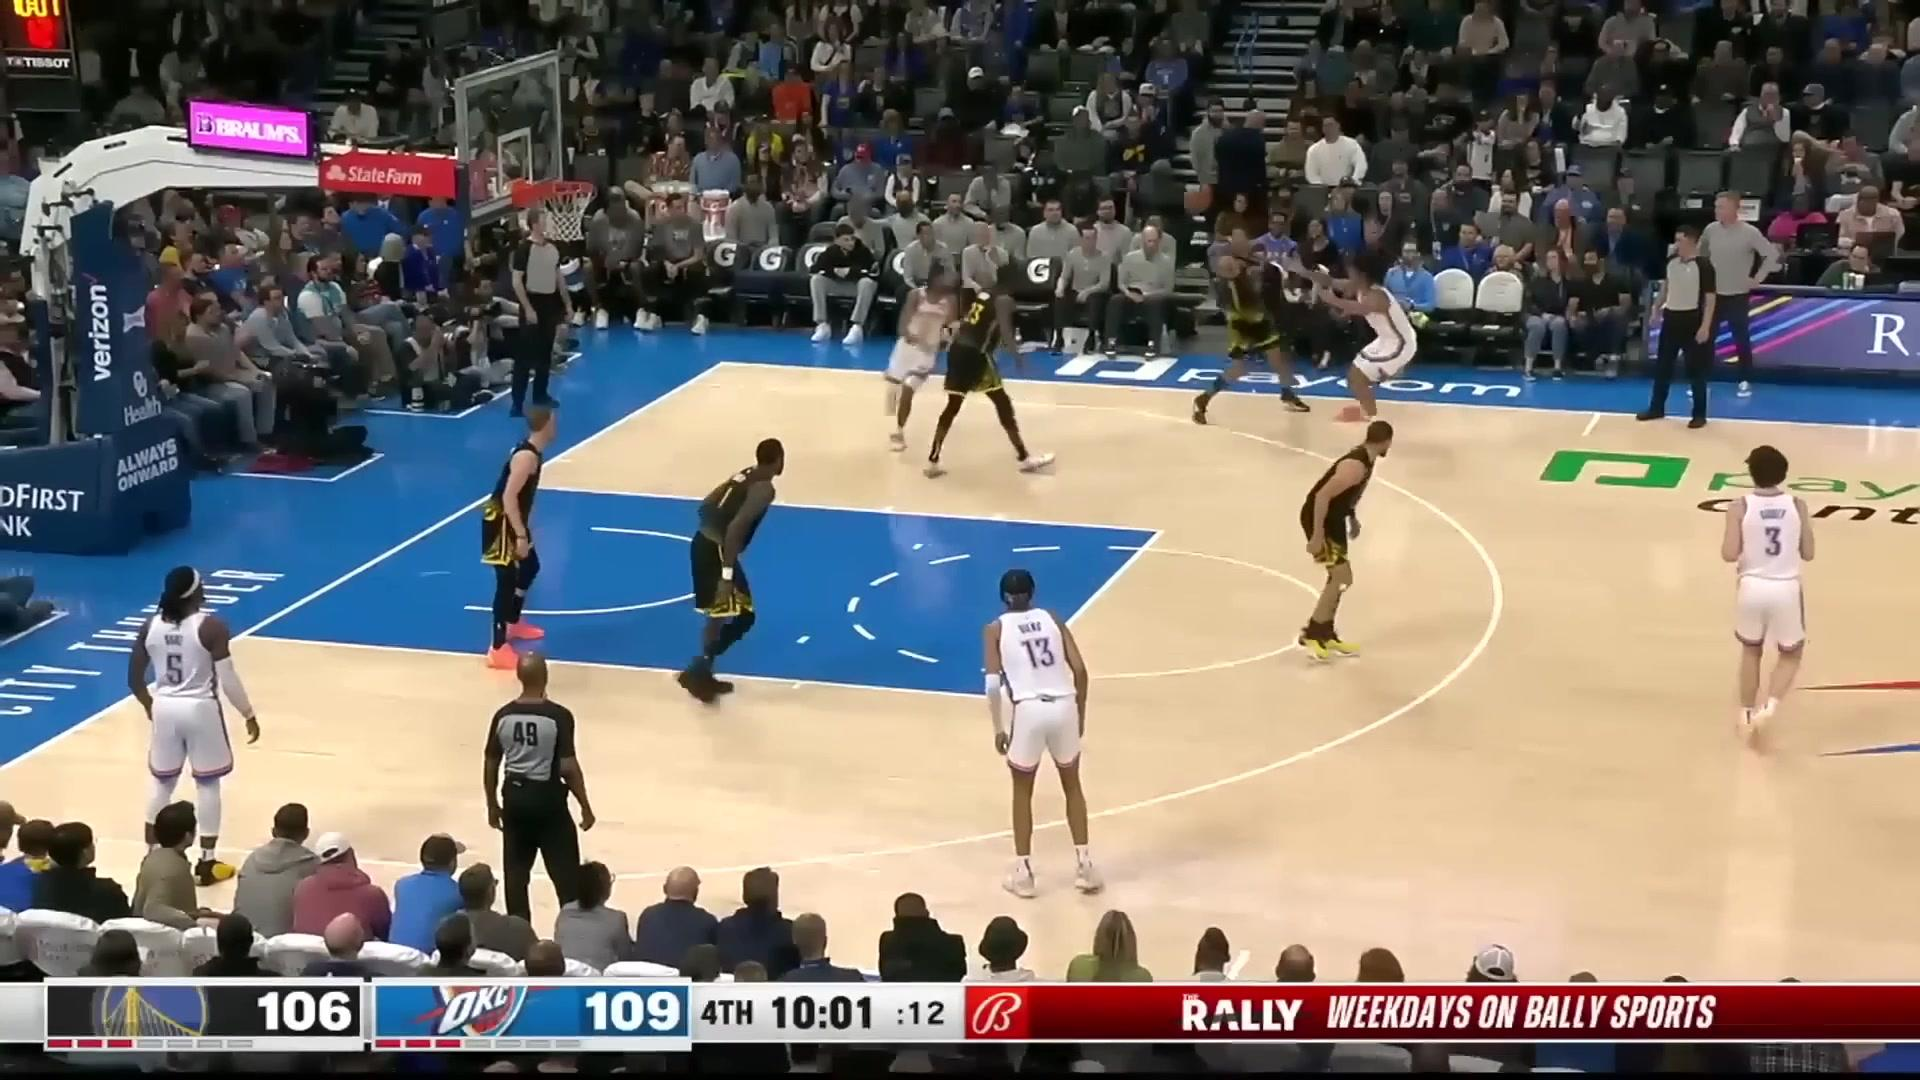foul: (1183, 232, 1420, 435)
